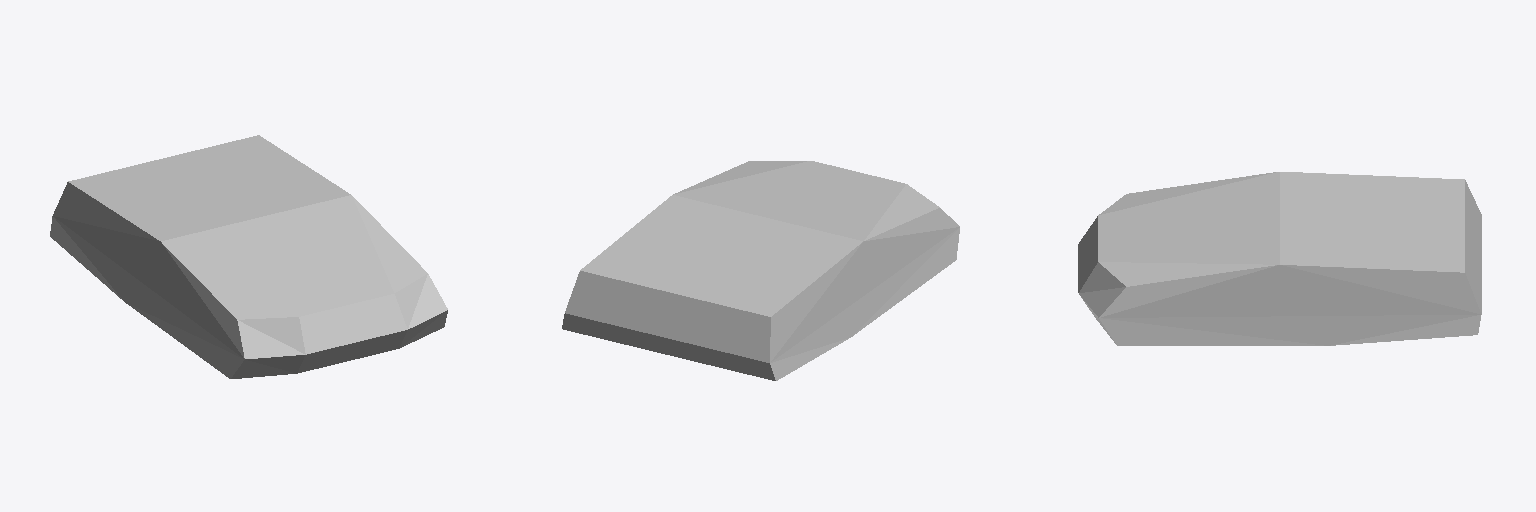
Rendered from turret.obj.
The picture shows the model from 3 angles: view 1: azimuth 30°, elevation 25°; view 2: azimuth 150°, elevation 25°; view 3: azimuth 270°, elevation 25°; orthographic projection.
Parts seen in each view (by area): view 1: TurretColl; view 2: TurretColl; view 3: TurretColl.
Boxes of the visible parts, x1=… form: TurretColl: x1=50, y1=135, x2=447, y2=378; TurretColl: x1=562, y1=161, x2=959, y2=380; TurretColl: x1=1078, y1=172, x2=1481, y2=345.
Size of the model in its own units: 1.74 by 0.5876 by 2.83.